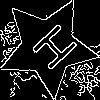H: (23, 21, 80, 79)
